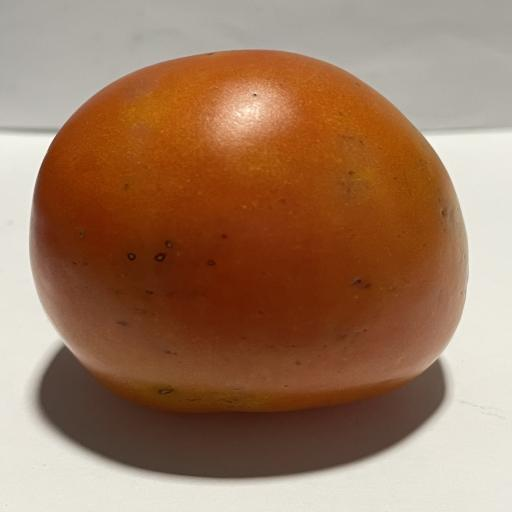ripe: (30, 50, 467, 411)
